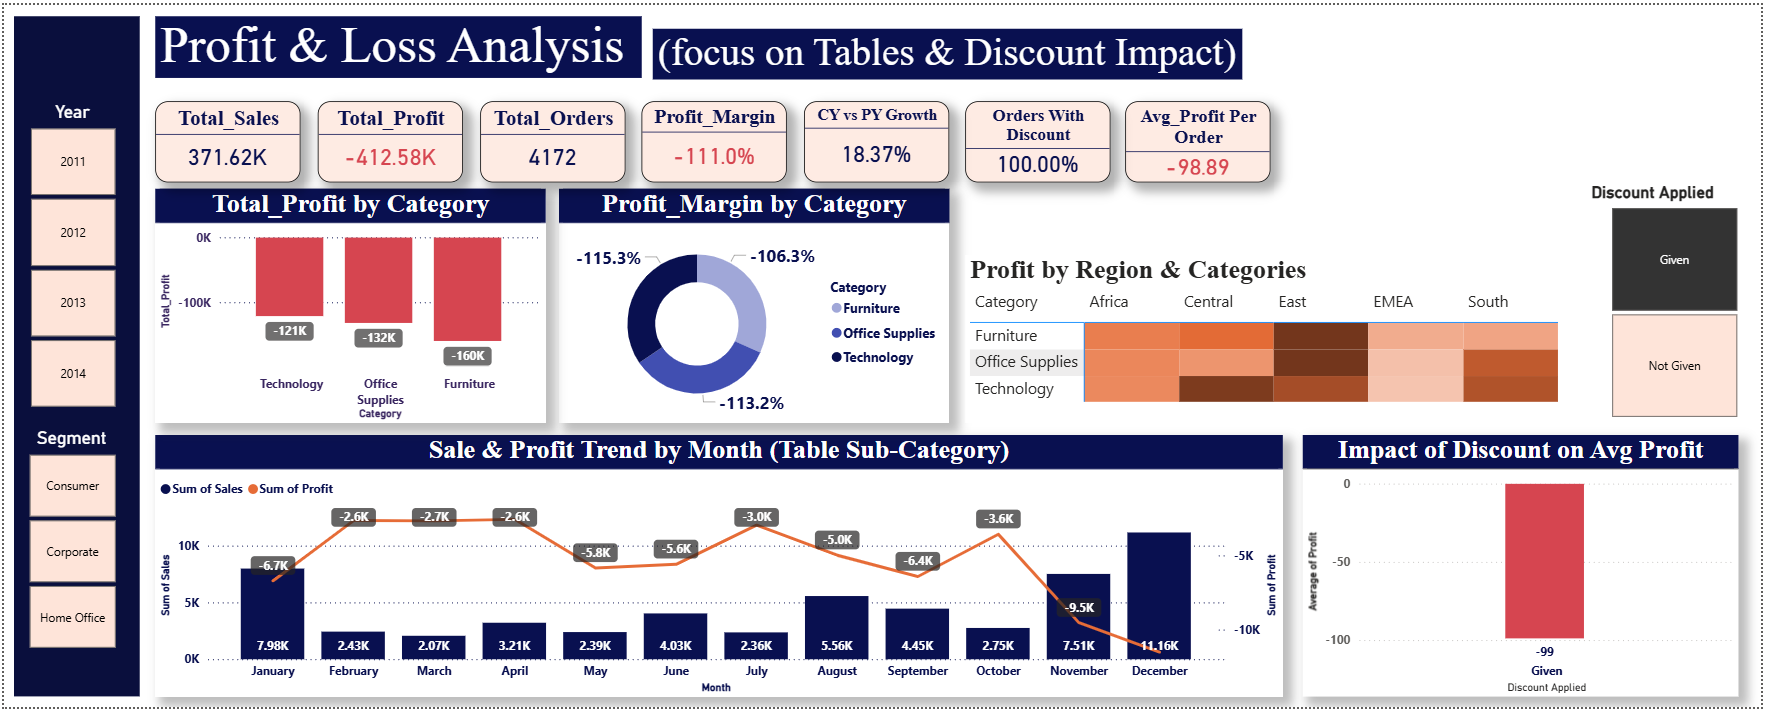

The dashboard page shown, as its layout file describes it:
{"tool":"powerbi","page":{"name":"Dashboard_Pg2","canvas":[1800,720],"ordinal":1},"visuals":[{"type":"textbox","box":[10,11.4,128.6,697.1],"z":0},{"type":"lineStackedColumnComboChart","title":"Sale & Profit Trend by Month (Table Sub-Category)","fields":{"Y":["Sum(superstore.Sales)"],"Y2":["Sum(superstore.Profit)"],"Category":["superstore.OrderDate.Variation.Date Hierarchy.Year","superstore.OrderDate.Variation.Date Hierarchy.Quarter","superstore.OrderDate.Variation.Date Hierarchy.Month","superstore.OrderDate.Variation.Date Hierarchy.Day"]},"box":[155,440,1155,268.3],"z":1000},{"type":"textbox","title":"Profit & Loss Analysis","box":[155,11.7,498.3,63.3],"z":2000},{"type":"clusteredColumnChart","fields":{"Category":["superstore.Category"],"Y":["Measure Table.Total_Profit"]},"box":[155,188.3,400,240],"z":3000},{"type":"card","title":"Total_Sales","fields":{"Values":["Measures_Table.Total_Sales"]},"box":[155.1,98.2,148.6,82.9],"z":4000},{"type":"textbox","title":"(focus on Tables & Discount Impact)","box":[664,24,604,52],"z":5000},{"type":"card","title":"Avg_Profit Per Order","fields":{"Values":["Measure Table.Avg_Profit_Per_Order"]},"box":[1148.6,98.6,148.6,82.9],"z":6000},{"type":"card","title":"Orders With Discount","fields":{"Values":["Measure Table.% Orders_with_discount"]},"box":[984.3,98.6,148.6,82.9],"z":7000},{"type":"donutChart","fields":{"Category":["superstore.Category"],"Y":["Measure Table.Profit_Margin"]},"box":[568.3,188.3,400,240],"z":8000},{"type":"pivotTable","title":"Profit by Region & Categories","fields":{"Values":["Sum(superstore.Profit)"],"Columns":["superstore.Region"],"Rows":["superstore.Category"]},"box":[985,256.7,620,171.7],"z":9000},{"type":"card","title":"Total_Profit","fields":{"Values":["Measures_Table.Total_Profit"]},"box":[321.2,98.2,148.6,82.9],"z":10000},{"type":"card","title":"Total_Orders","fields":{"Values":["Measures_Table.Total_Orders"]},"box":[487.3,98.2,148.6,82.9],"z":11000},{"type":"card","title":"Profit_Margin","fields":{"Values":["Measures_Table.Profit_Margin"]},"box":[653.4,98.2,148.6,82.9],"z":12000},{"type":"card","title":"CY vs PY Growth ","fields":{"Values":["Measure Table.Current yr vs prior Year Growth %"]},"box":[819.4,98.2,148.6,82.9],"z":13000},{"type":"columnChart","title":"Impact of Discount on Avg Profit","fields":{"Category":["superstore.Discount Applied"],"Y":["Avg(superstore.Profit)"]},"box":[1330,440,446.7,268.3],"z":14000},{"type":"slicer","title":"Discount Applied","fields":{"Values":["superstore.Discount Applied"]},"box":[1621.7,181.7,178.3,246.7],"z":15000},{"type":"slicer","title":"Segment","fields":{"Values":["superstore.Segment"]},"box":[0,432.9,138.6,232.9],"z":16000},{"type":"slicer","title":"Year","fields":{"Values":["superstore.Year"]},"box":[1.4,98.6,137.1,320],"z":17000}]}

Visuals, with their boxes in screenshot pixels (x1, y1, x2, y2), scaled from the page's 1800x720 canvas onto the 1765x710 screenshot:
textbox: (left=10, top=11, right=136, bottom=699)
"Sale & Profit Trend by Month (Table Sub-Category)" lineStackedColumnComboChart: (left=152, top=434, right=1285, bottom=698)
"Profit & Loss Analysis" textbox: (left=152, top=12, right=641, bottom=74)
clusteredColumnChart - superstore.Category x Measure Table.Total_Profit: (left=152, top=186, right=544, bottom=422)
"Total_Sales" card: (left=152, top=97, right=298, bottom=179)
"(focus on Tables & Discount Impact)" textbox: (left=651, top=24, right=1243, bottom=75)
"Avg_Profit Per Order" card: (left=1126, top=97, right=1272, bottom=179)
"Orders With Discount" card: (left=965, top=97, right=1111, bottom=179)
donutChart - superstore.Category x Measure Table.Profit_Margin: (left=557, top=186, right=949, bottom=422)
"Profit by Region & Categories" pivotTable: (left=966, top=253, right=1574, bottom=422)
"Total_Profit" card: (left=315, top=97, right=461, bottom=179)
"Total_Orders" card: (left=478, top=97, right=624, bottom=179)
"Profit_Margin" card: (left=641, top=97, right=786, bottom=179)
"CY vs PY Growth " card: (left=803, top=97, right=949, bottom=179)
"Impact of Discount on Avg Profit" columnChart: (left=1304, top=434, right=1742, bottom=698)
"Discount Applied" slicer: (left=1590, top=179, right=1764, bottom=422)
"Segment" slicer: (left=0, top=427, right=136, bottom=657)
"Year" slicer: (left=1, top=97, right=136, bottom=413)
